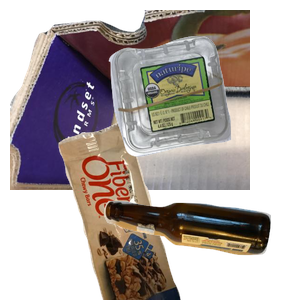cardboard: (10, 10, 250, 190)
glass: (101, 198, 300, 300)
plastic: (106, 34, 300, 183)
trash: (56, 120, 229, 300)
